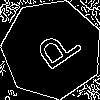P: (27, 24, 84, 78)
